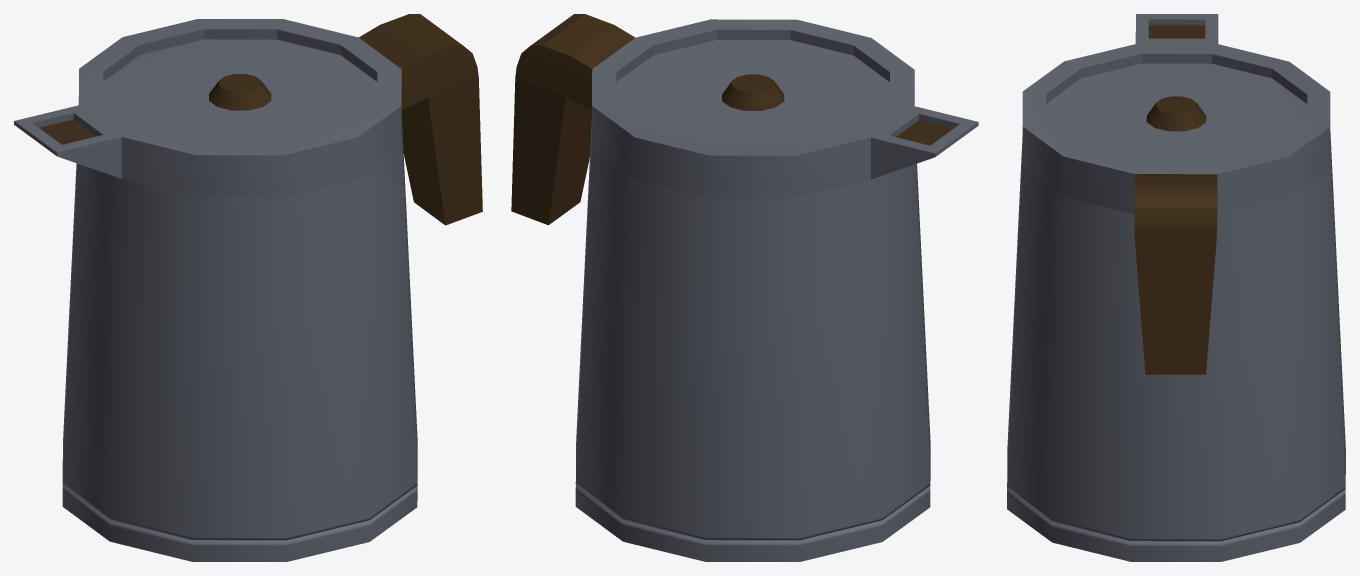
File: Kettle.fbx
The picture shows the model from 3 angles, left to right: view 1: azimuth 30°, elevation 25°; view 2: azimuth 150°, elevation 25°; view 3: azimuth 270°, elevation 25°; orthographic projection. The views are drawn at different scales.
Parts seen in each view (by area): view 1: Kettle; view 2: Kettle; view 3: Kettle.
Part boxes in pixels (box(x1,y1,x2,y2)): Kettle: box(14, 14, 482, 561); Kettle: box(511, 14, 978, 561); Kettle: box(1007, 14, 1345, 561).
Bounding box in the file's own units: 59.47 × 54.19 × 42.43.
